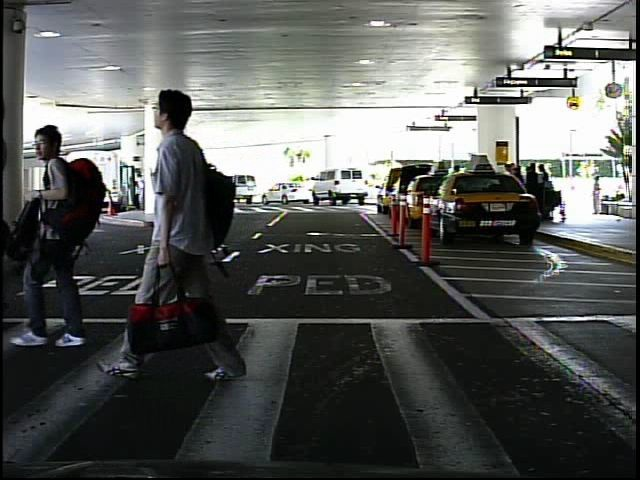person: (117, 82, 246, 399), (18, 115, 108, 353), (51, 171, 70, 220), (588, 173, 607, 219)
